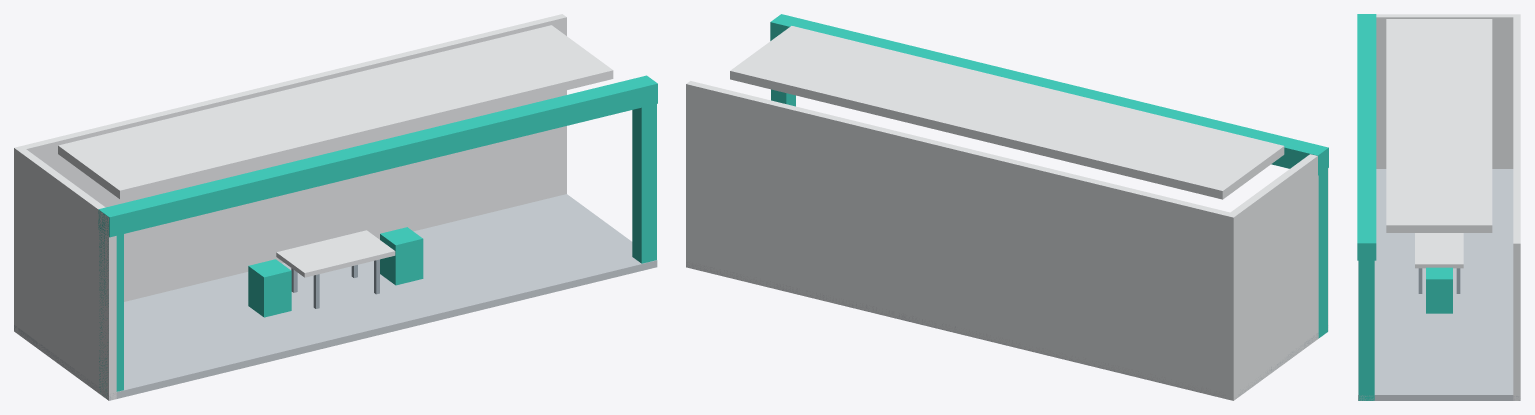
The picture shows the model from 3 angles, left to right: view 1: azimuth 30°, elevation 25°; view 2: azimuth 150°, elevation 25°; view 3: azimuth 270°, elevation 25°; orthographic projection. The views are drawn at different scales.
Visible parts, largest first — view 1: Exhibition Booth Concept; view 2: Exhibition Booth Concept; view 3: Exhibition Booth Concept.
Part boxes in pixels (left/top/right/bottom): Exhibition Booth Concept: left=14, top=14, right=657, bottom=400; Exhibition Booth Concept: left=686, top=14, right=1328, bottom=400; Exhibition Booth Concept: left=1357, top=14, right=1520, bottom=400.
Bounding box in the file's own units: 10 × 3.34 × 3.01.
